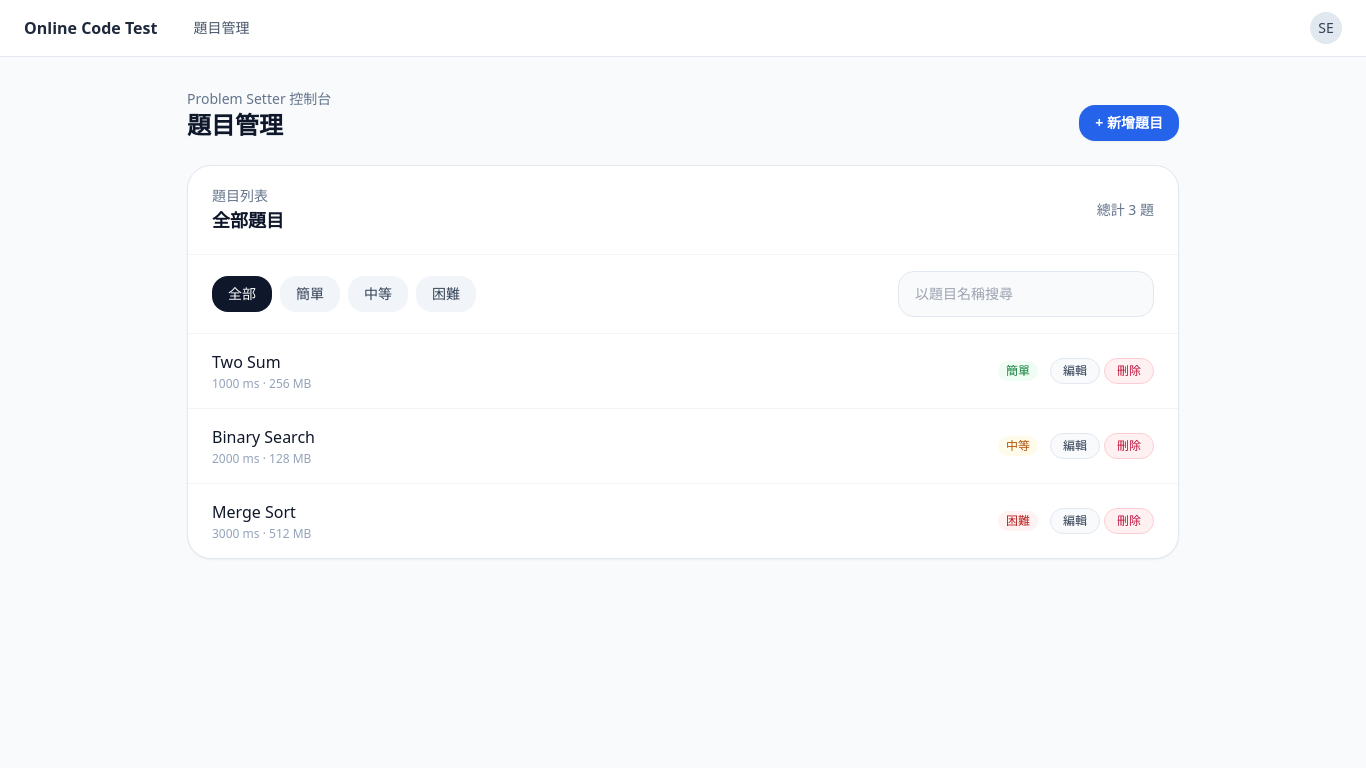
Test: ProblemSetterDashboardPage() › difficulty filter: clicking 全部 after a filter restores full list
Expected: the text "Two Sum" is shown, x1=212 y1=351 x2=281 y2=373
Click the button "困難".
click(446, 294)  # box x1=416 y1=276 x2=476 y2=312
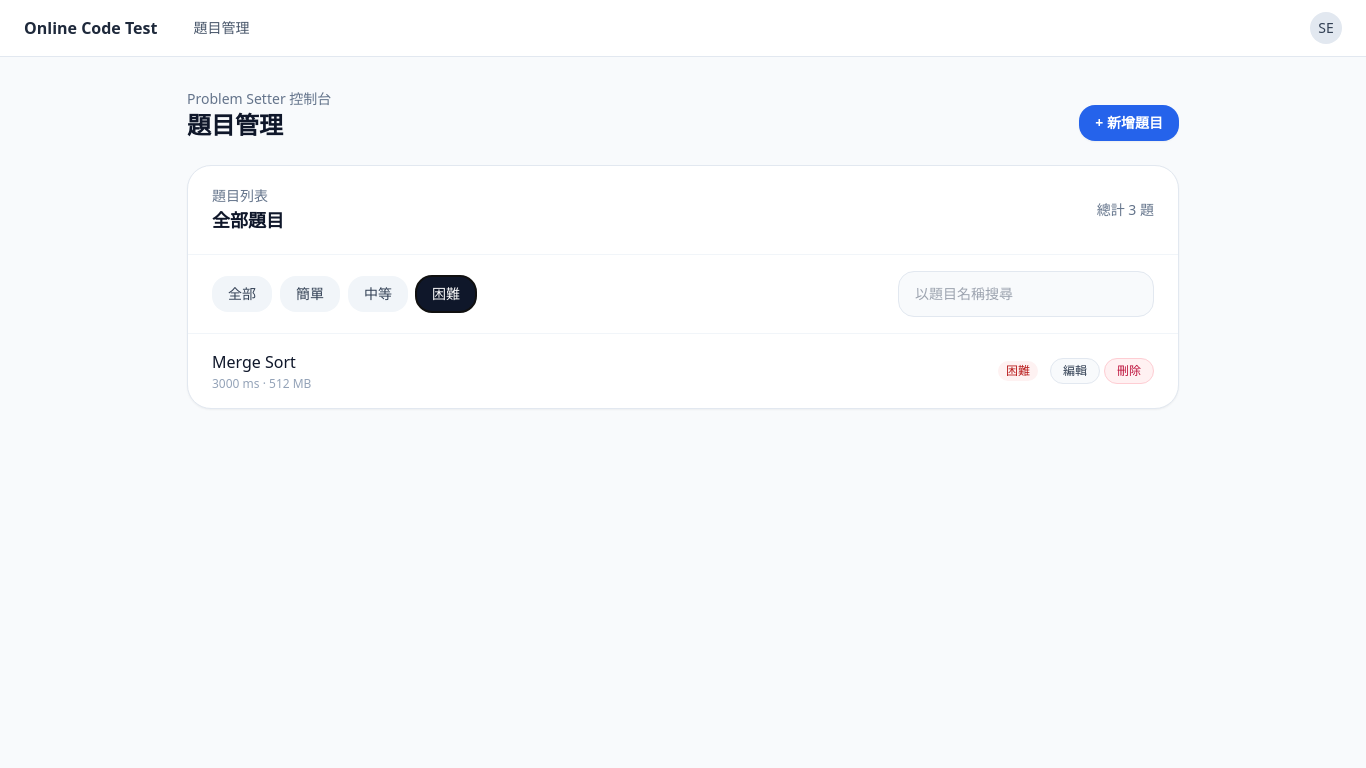
Click the button "全部".
click(242, 294)  # box x1=212 y1=276 x2=272 y2=312
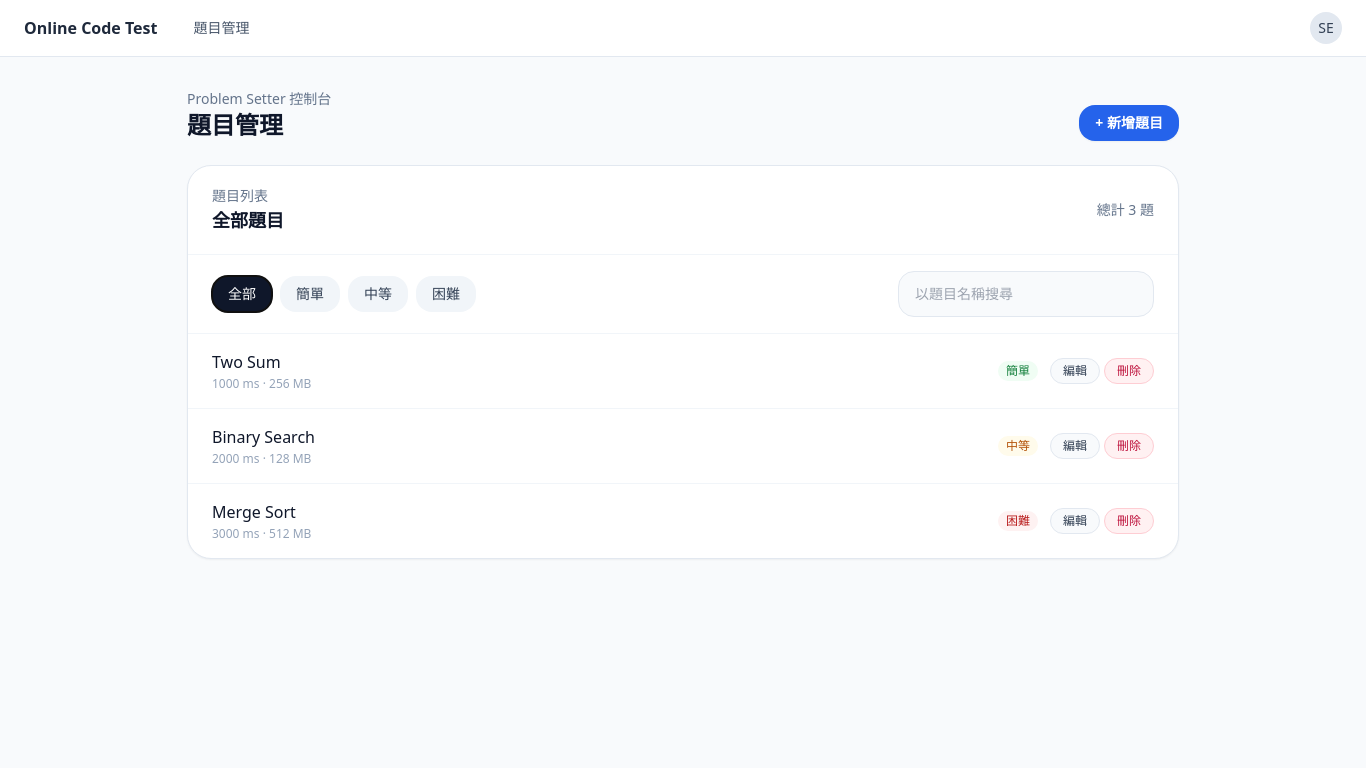
Expected: the text "Merge Sort" is shown, x1=212 y1=501 x2=296 y2=523
Now the text "Two Sum" is shown, box x1=212 y1=351 x2=281 y2=373
Now the text "Binary Search" is shown, box x1=212 y1=425 x2=315 y2=449
